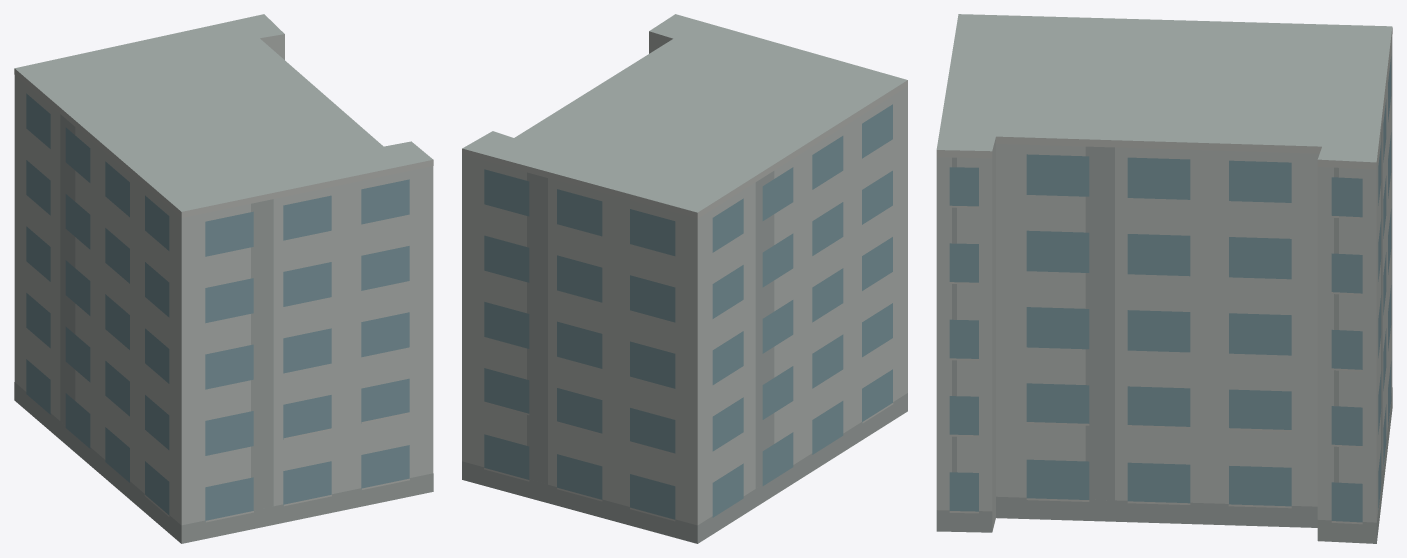
File: survey-upis-32946405.glb
3 views of the same model, side by side, from view 1: azimuth 30°, elevation 25°; view 2: azimuth 150°, elevation 25°; view 3: azimuth 270°, elevation 25° (orthographic). The views are drawn at different scales.
Visible parts, largest first — view 1: survey-upis-32946405.tmp; view 2: survey-upis-32946405.tmp; view 3: survey-upis-32946405.tmp.
Boxes of the visible parts, x1=… form: survey-upis-32946405.tmp: x1=14, y1=14, x2=433, y2=543; survey-upis-32946405.tmp: x1=462, y1=14, x2=907, y2=543; survey-upis-32946405.tmp: x1=936, y1=14, x2=1392, y2=543.
Bounding box in the file's own units: 10.73 × 12.85 × 13.93.
